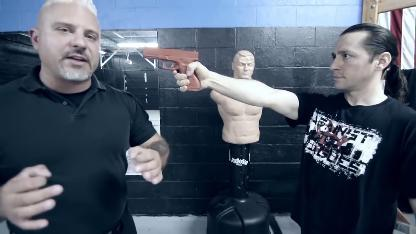pistol: (141, 45, 201, 91)
